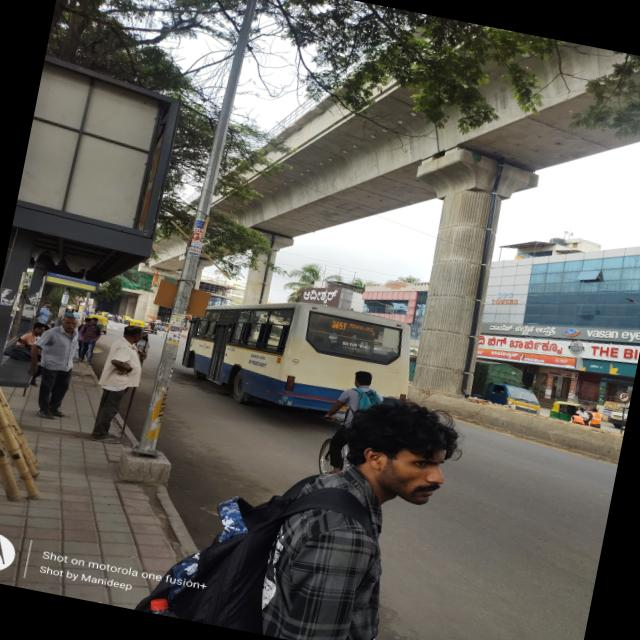bus: (180, 284, 423, 436)
display: (328, 316, 380, 339)
dnumber: (330, 319, 348, 331)
